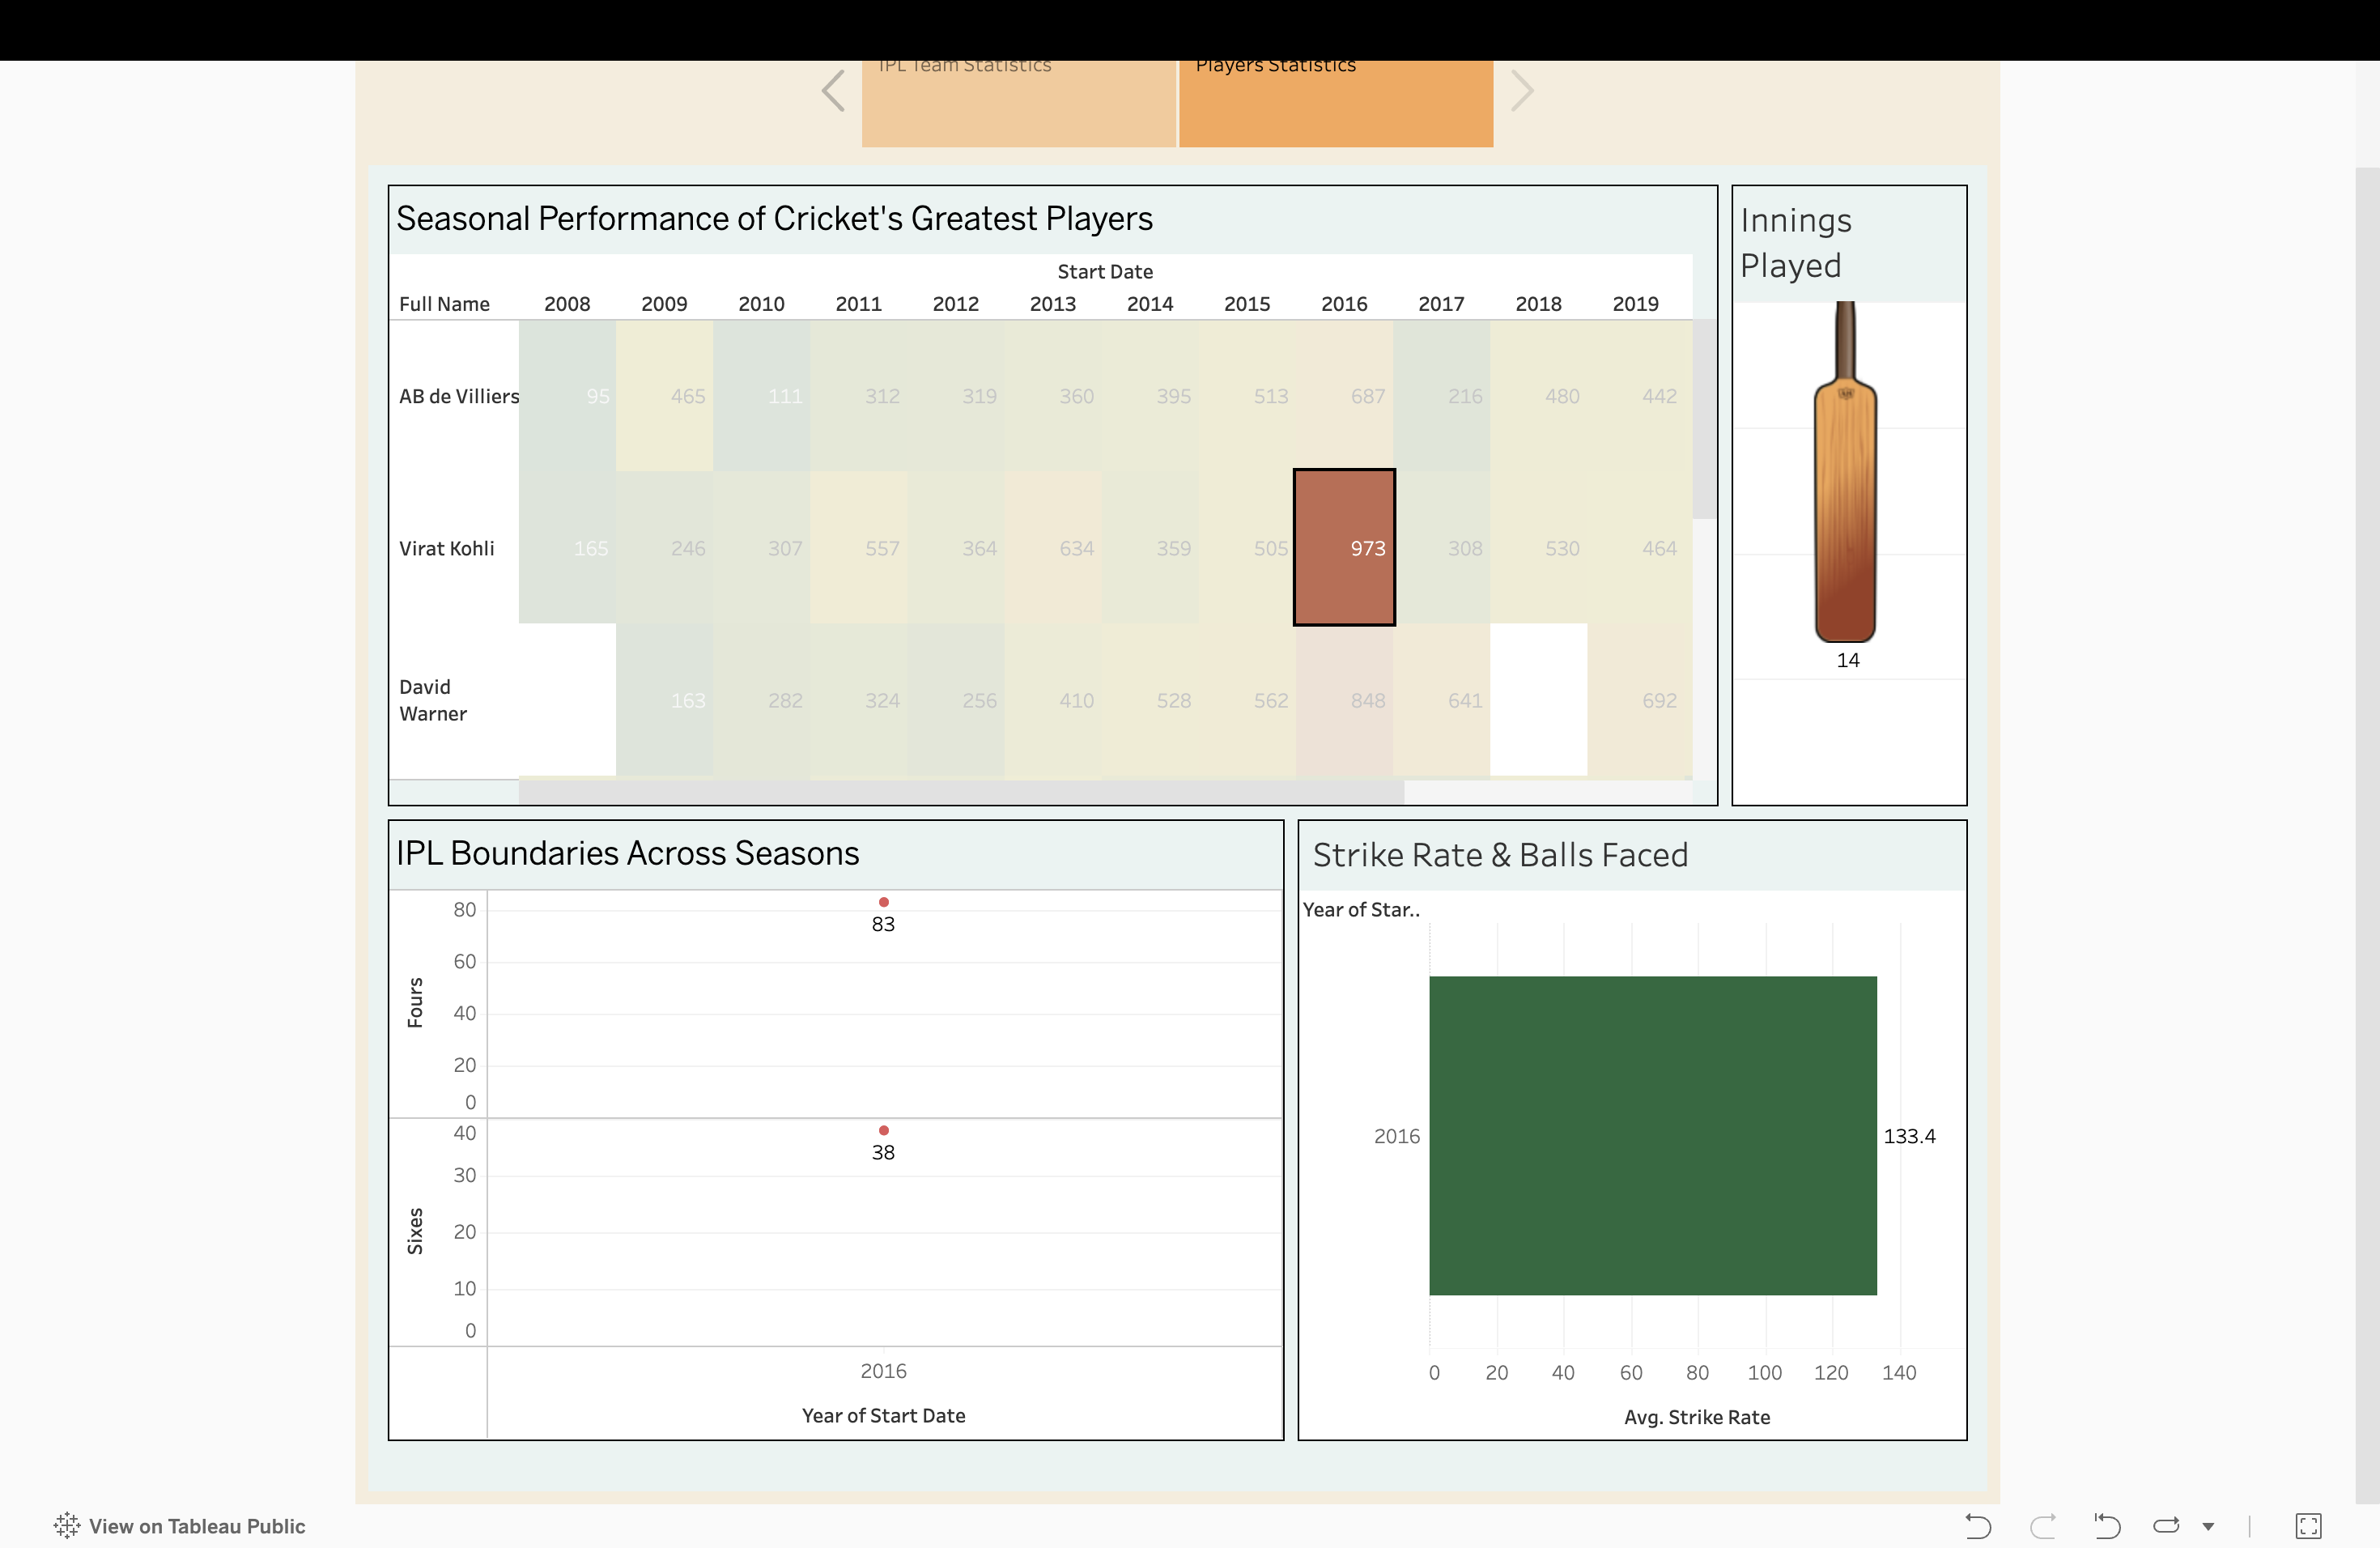

The dashboard page shown, as its layout file describes it:
{"tool":"tableau","page":{"name":"Dashboard 2","canvas":[1000,800],"ordinal":1},"visuals":[{"type":"worksheet","title":"Sheet 4","mark":"Square","rows":["fullName"],"cols":["start_date"],"box":[8,8,829.6,392]},{"type":"worksheet","title":"Sheet 5","mark":"Shape","rows":["home_team (all_season_batting_card.csv)"],"box":[837.6,8,154.3,392]},{"type":"worksheet","title":"Sheet 7","mark":"Automatic","rows":["fours","sixes"],"cols":["start_date"],"box":[8,400,562.2,392]},{"type":"worksheet","title":"Sheet 6","mark":"Bar","rows":["start_date"],"cols":["strikeRate"],"box":[570.2,400,421.8,392]}]}

Visuals, with their boxes on the page's 1000x800 design canvas (x1, y1, x2, y2). These are canvas units, not pixel positions in the 2380x1548 screenshot, which may show the page scaled, cropped or inside an application window:
"Sheet 4" worksheet (Square marks): [x1=8, y1=8, x2=838, y2=400]
"Sheet 5" worksheet (Shape marks): [x1=838, y1=8, x2=992, y2=400]
"Sheet 7" worksheet: [x1=8, y1=400, x2=570, y2=792]
"Sheet 6" worksheet (Bar marks): [x1=570, y1=400, x2=992, y2=792]
